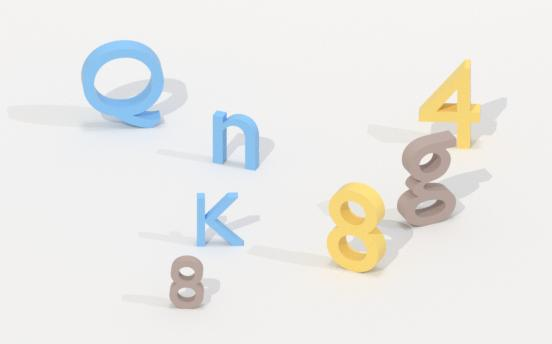4: (415, 54, 483, 153)
8: (325, 178, 389, 277), (169, 252, 206, 311)
g: (395, 129, 461, 231)
k: (191, 186, 246, 250)
n: (210, 107, 262, 174)
q: (80, 36, 167, 134)
